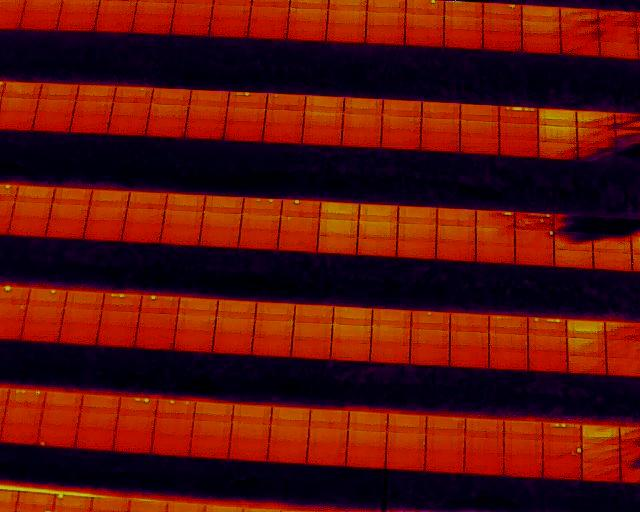Cell: (37, 426, 78, 446), (27, 285, 66, 306), (515, 228, 554, 247), (140, 295, 178, 314), (411, 312, 450, 330), (281, 200, 321, 217), (267, 94, 305, 111), (281, 217, 319, 234), (483, 2, 521, 18), (54, 496, 92, 512), (406, 0, 445, 14)
Cell-Multi: (4, 389, 45, 409), (543, 421, 581, 441), (118, 398, 157, 416), (156, 400, 195, 418), (475, 209, 514, 227), (102, 293, 139, 311), (515, 213, 554, 230), (529, 319, 567, 336), (543, 442, 581, 459), (242, 198, 281, 214), (499, 107, 537, 123)
No-Anomaly: (252, 336, 291, 358), (58, 10, 98, 31), (152, 434, 190, 456), (174, 331, 213, 352), (543, 459, 582, 480), (269, 440, 306, 462), (213, 334, 253, 354), (135, 330, 175, 350), (146, 118, 186, 138), (307, 442, 347, 462), (410, 346, 448, 367), (230, 437, 268, 458), (191, 436, 229, 457), (464, 454, 502, 475), (292, 338, 331, 358), (483, 32, 522, 52), (503, 457, 542, 477), (331, 342, 371, 361), (193, 402, 233, 421), (210, 16, 248, 36), (436, 242, 476, 261), (39, 408, 79, 427), (427, 416, 465, 436), (387, 450, 425, 470), (347, 447, 385, 467), (134, 13, 172, 33), (106, 118, 148, 136), (582, 424, 618, 445), (238, 231, 280, 249), (515, 248, 554, 267), (489, 350, 528, 369), (333, 307, 372, 326), (504, 420, 543, 439), (358, 238, 397, 257), (318, 235, 357, 254), (224, 122, 261, 142), (185, 121, 226, 139), (262, 125, 303, 143), (58, 323, 99, 341), (396, 241, 437, 259), (22, 9, 57, 30), (529, 352, 567, 371), (388, 414, 426, 433), (426, 453, 464, 472), (321, 201, 359, 220), (280, 232, 318, 251), (370, 345, 410, 363), (97, 326, 137, 344), (248, 21, 288, 39), (62, 306, 102, 324), (20, 322, 60, 340), (97, 11, 133, 31), (398, 205, 438, 223), (123, 224, 163, 242), (301, 128, 343, 145), (173, 15, 210, 34), (86, 221, 123, 240), (583, 445, 620, 464), (567, 356, 606, 374), (371, 326, 410, 344), (0, 425, 39, 443), (47, 220, 86, 238), (319, 219, 358, 237), (3, 409, 44, 426), (449, 348, 487, 366), (255, 304, 293, 322), (349, 412, 387, 430), (465, 420, 503, 438), (114, 432, 152, 450), (77, 429, 115, 447), (17, 492, 53, 511), (91, 190, 127, 209), (69, 117, 109, 134), (293, 306, 333, 323), (372, 310, 412, 327), (99, 311, 139, 328), (489, 317, 529, 334), (382, 131, 422, 148), (309, 410, 349, 427), (0, 98, 37, 116), (206, 195, 243, 213), (10, 217, 47, 235), (443, 31, 482, 48), (36, 100, 75, 117), (460, 121, 499, 138), (178, 298, 217, 315), (449, 315, 488, 332), (475, 228, 514, 245), (475, 245, 514, 262), (78, 412, 117, 429), (167, 194, 206, 211), (437, 209, 476, 226), (437, 225, 476, 242), (232, 405, 273, 421), (287, 8, 328, 24), (42, 84, 78, 102), (202, 230, 238, 248), (567, 339, 605, 356), (79, 395, 117, 412), (538, 127, 576, 144), (522, 5, 560, 22), (27, 305, 65, 322), (217, 301, 255, 318), (567, 320, 605, 337), (499, 140, 537, 157), (272, 408, 310, 425), (427, 436, 465, 453), (388, 434, 426, 451), (421, 133, 459, 150), (128, 193, 166, 210), (341, 131, 381, 147), (188, 91, 228, 107), (150, 89, 190, 105), (241, 214, 281, 230), (45, 392, 82, 409), (360, 204, 397, 221), (162, 225, 199, 242), (366, 29, 405, 45), (405, 31, 444, 47), (449, 332, 488, 348), (344, 99, 383, 115), (153, 417, 192, 433), (464, 438, 503, 454), (504, 440, 543, 456), (327, 10, 366, 26), (366, 12, 405, 28), (359, 221, 398, 237), (398, 224, 437, 240), (17, 186, 53, 203), (327, 26, 365, 42), (33, 117, 71, 133), (555, 251, 593, 267), (593, 253, 631, 269), (138, 314, 176, 330), (288, 24, 326, 40), (250, 6, 288, 22), (2, 82, 40, 98), (212, 0, 250, 16), (582, 464, 620, 480), (54, 188, 92, 204), (73, 102, 113, 117), (382, 101, 422, 116), (64, 292, 104, 307), (115, 416, 155, 431), (230, 422, 270, 437), (347, 431, 387, 446), (411, 330, 450, 345), (305, 97, 344, 112), (538, 111, 577, 126), (343, 115, 382, 130), (499, 124, 538, 139), (177, 316, 216, 331), (293, 324, 332, 339), (332, 326, 371, 341), (114, 88, 153, 103), (50, 204, 89, 219), (599, 26, 635, 42), (14, 202, 50, 218), (263, 111, 304, 125), (215, 319, 256, 333), (529, 337, 567, 352), (522, 22, 560, 37), (445, 1, 483, 16), (173, 0, 211, 15), (522, 38, 560, 53), (406, 14, 444, 29), (303, 113, 343, 127), (443, 16, 483, 30), (191, 422, 231, 436), (77, 87, 114, 102), (204, 214, 241, 229), (489, 334, 528, 348), (460, 107, 499, 121), (110, 102, 149, 116), (226, 109, 265, 123), (382, 117, 421, 131), (164, 211, 203, 225), (270, 426, 308, 440), (308, 428, 346, 442), (126, 210, 164, 224), (253, 322, 293, 335), (422, 119, 459, 133), (89, 207, 126, 221), (187, 107, 226, 120), (460, 139, 499, 152), (601, 43, 636, 57), (422, 105, 459, 118), (149, 105, 188, 117), (136, 0, 173, 12), (482, 20, 521, 31)
Shadowing: (593, 234, 630, 253), (561, 40, 599, 58), (555, 232, 592, 249), (577, 129, 616, 145), (560, 8, 599, 24), (577, 112, 615, 128), (538, 144, 576, 160), (554, 215, 592, 231), (593, 217, 630, 233), (560, 25, 599, 39), (600, 11, 636, 26), (577, 145, 615, 159)
Unclassified: (228, 91, 267, 108)
